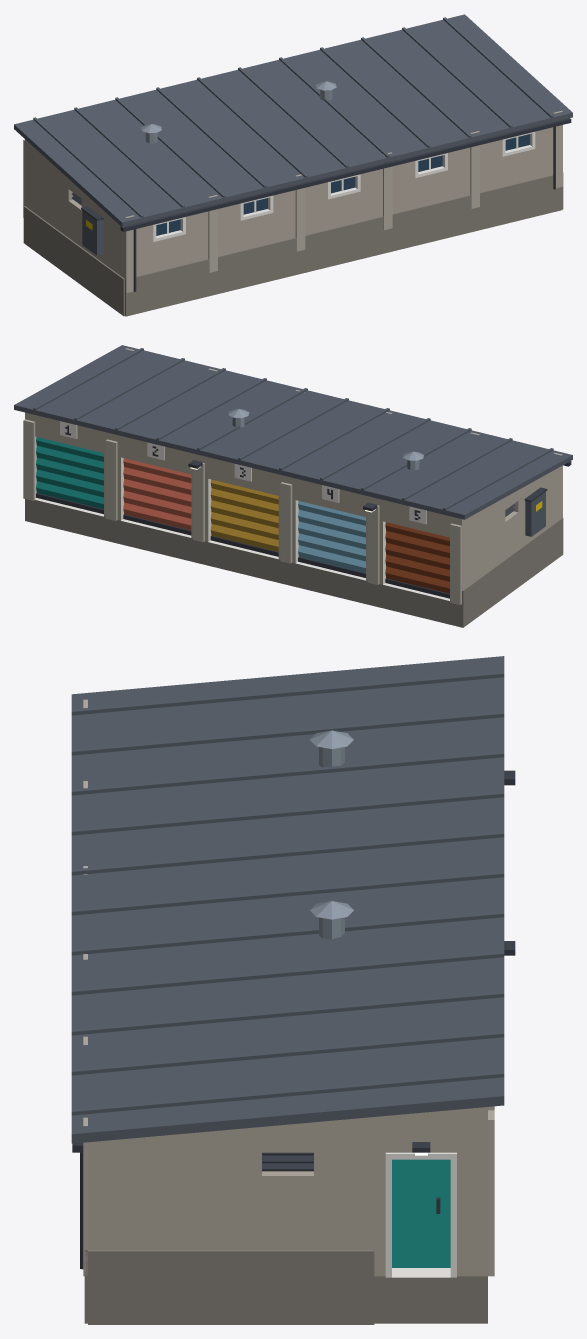
The model's file is garage_row.glb.
The picture shows the model from 3 angles, top to bottom: view 1: azimuth 30°, elevation 25°; view 2: azimuth 150°, elevation 25°; view 3: azimuth 270°, elevation 25°; orthographic projection. The views are drawn at different scales.
Parts seen in each view (by area): view 1: Building, Building_Glass, Building_Detail; view 2: Building, Building_Detail; view 3: Building, Building_Detail.
Boxes of the visible parts, left/top/right/bottom form: Building: left=14, top=14, right=572, bottom=316; Building_Glass: left=156, top=134, right=529, bottom=235; Building_Detail: left=133, top=81, right=555, bottom=291; Building: left=14, top=345, right=572, bottom=627; Building_Detail: left=188, top=409, right=423, bottom=512; Building: left=71, top=656, right=504, bottom=1324; Building_Detail: left=80, top=730, right=515, bottom=1269.
Size of the model in its own units: 16 by 4.28 by 6.82.
